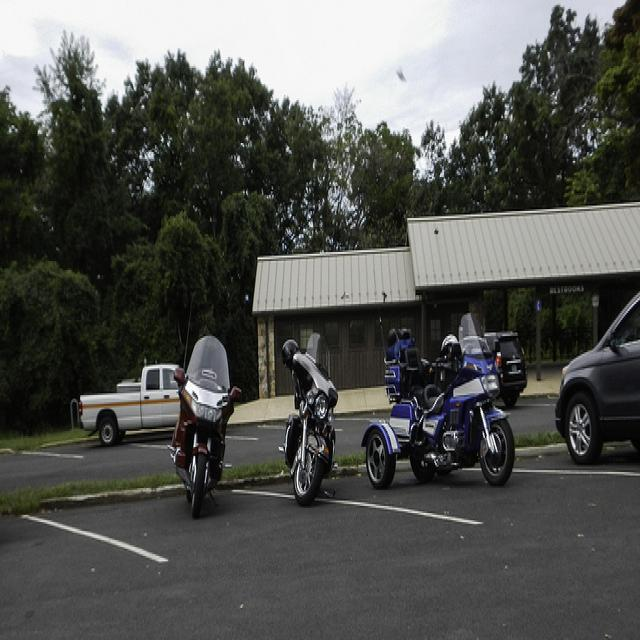motor: (411, 318, 518, 486), (167, 336, 242, 519), (284, 334, 339, 503)
